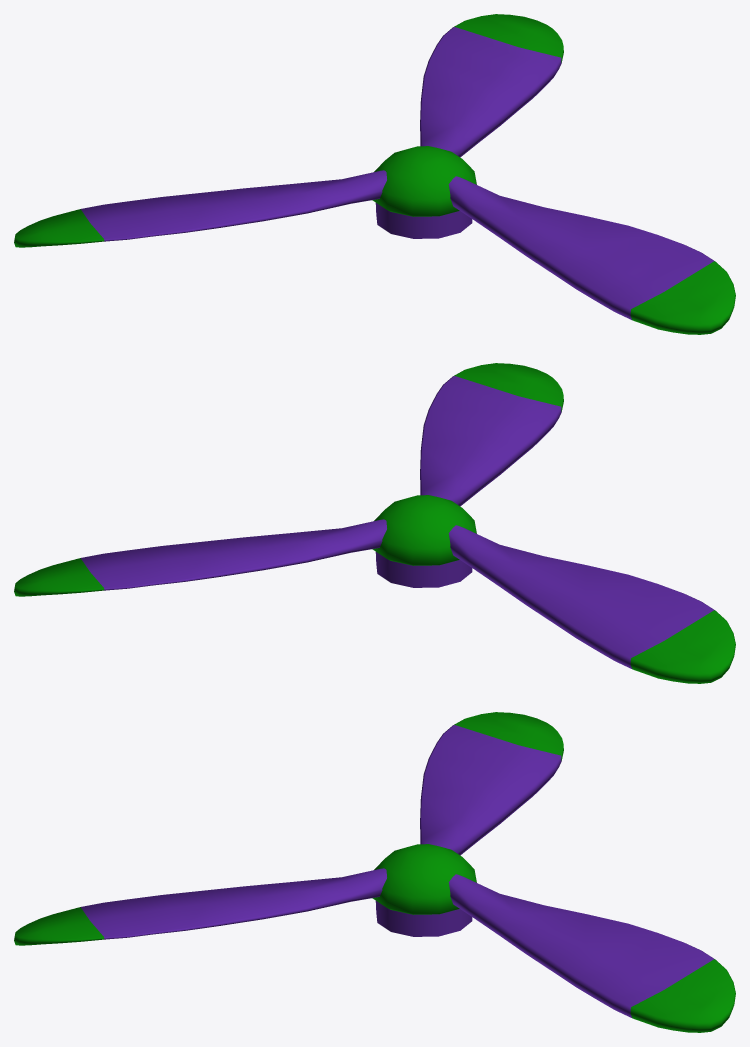
File: JumboTronProPeller.fbx
3 renders of one model, top to bottom at view 1: azimuth 30°, elevation 25°; view 2: azimuth 150°, elevation 25°; view 3: azimuth 270°, elevation 25°, orthographic.
Parts seen in each view (by area): view 1: PRP_FloatingCam_Propeller_0, PRP_FloatingCam_Propeller_1, PRP_FloatingCam_Propeller_2; view 2: PRP_FloatingCam_Propeller_0, PRP_FloatingCam_Propeller_1, PRP_FloatingCam_Propeller_2; view 3: PRP_FloatingCam_Propeller_0, PRP_FloatingCam_Propeller_1, PRP_FloatingCam_Propeller_2.
Boxes of the visible parts, x1,y1,x2,y2 form: PRP_FloatingCam_Propeller_0: (81,27,714,319); PRP_FloatingCam_Propeller_1: (14,14,735,334); PRP_FloatingCam_Propeller_2: (375,203,472,238); PRP_FloatingCam_Propeller_0: (81,376,714,668); PRP_FloatingCam_Propeller_1: (14,363,735,683); PRP_FloatingCam_Propeller_2: (375,552,472,587); PRP_FloatingCam_Propeller_0: (81,725,714,1017); PRP_FloatingCam_Propeller_1: (14,712,735,1032); PRP_FloatingCam_Propeller_2: (375,901,472,936).
Bounding box in the file's own units: 16.16 × 1.66 × 16.24.
